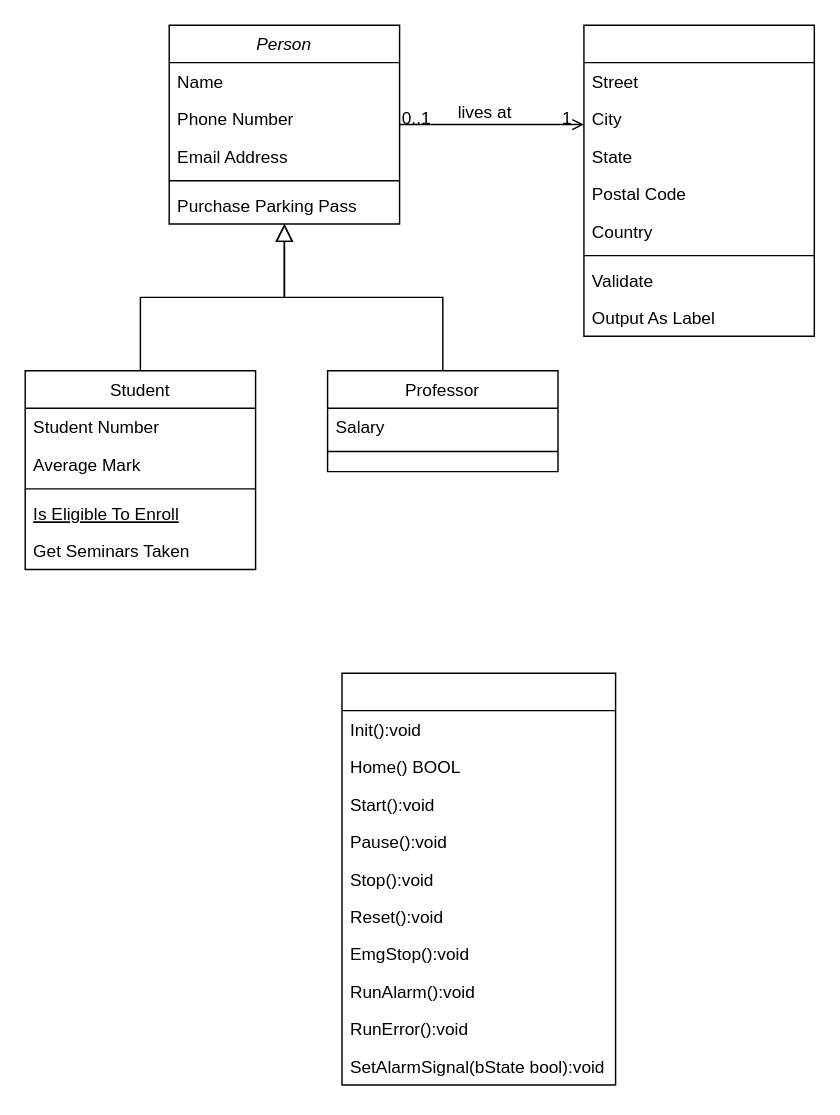
Some shapes in this 840 by 1115 pixel diagram are drawn without their labels. The box of each missing label's shape, as (x1, y1, x2, y2) in pixels:
Address: (582, 24, 814, 336)
Conveyor: (341, 672, 616, 1085)
